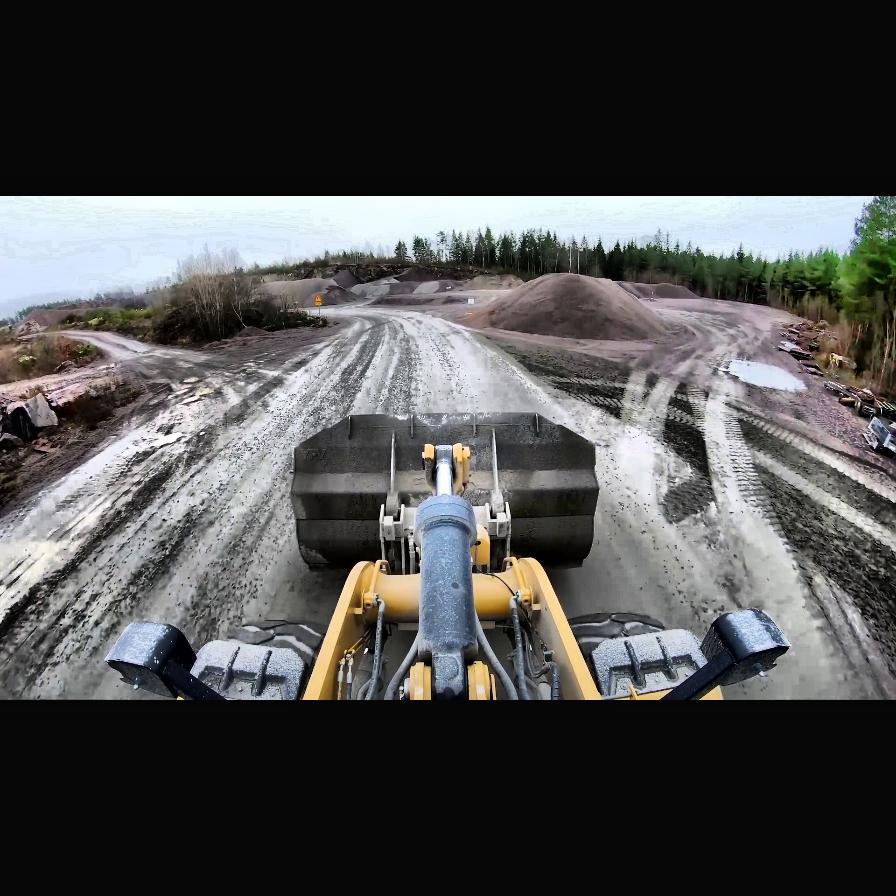anchor: (423, 442, 469, 496)
pile of gravel: (475, 272, 657, 344), (256, 278, 354, 308), (430, 273, 518, 291), (622, 282, 702, 300)
